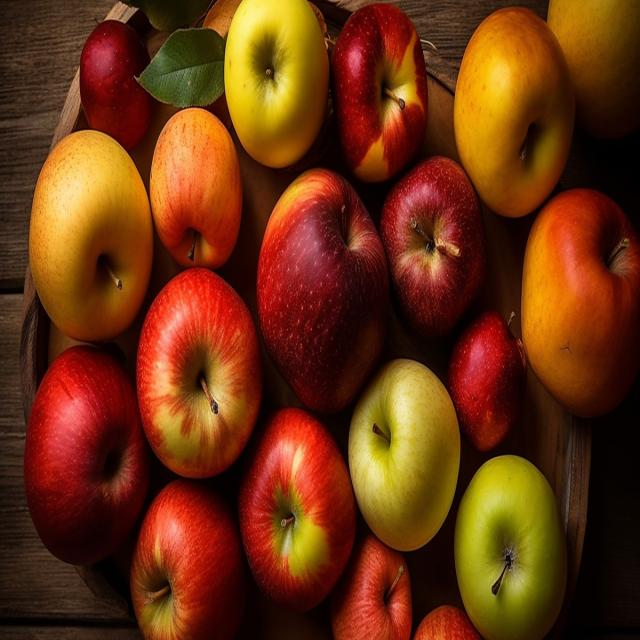Green Apple: (26, 128, 154, 335), (347, 357, 462, 550), (453, 453, 570, 640), (222, 1, 331, 168), (546, 1, 640, 142)
Red Apple: (258, 169, 392, 416), (24, 342, 152, 565), (520, 187, 640, 417), (136, 268, 264, 480), (454, 4, 577, 218), (240, 403, 360, 614), (132, 474, 252, 640), (333, 3, 428, 186), (150, 105, 245, 271), (449, 310, 529, 452), (401, 604, 512, 640)
